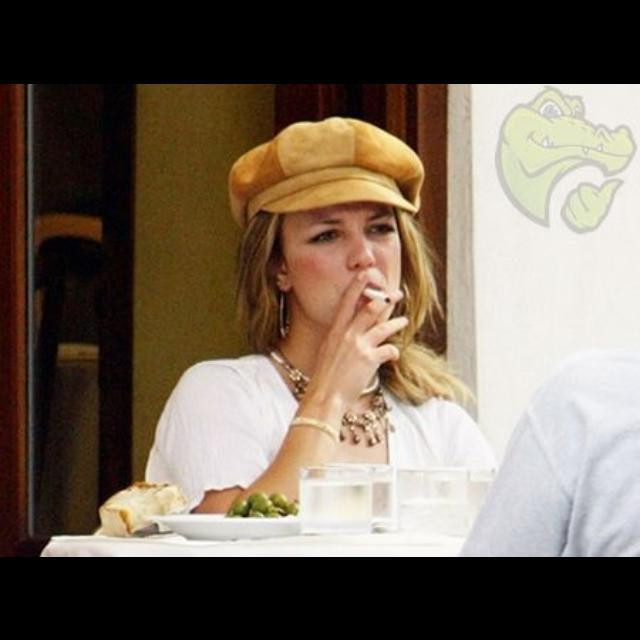rokok: (360, 284, 400, 306)
